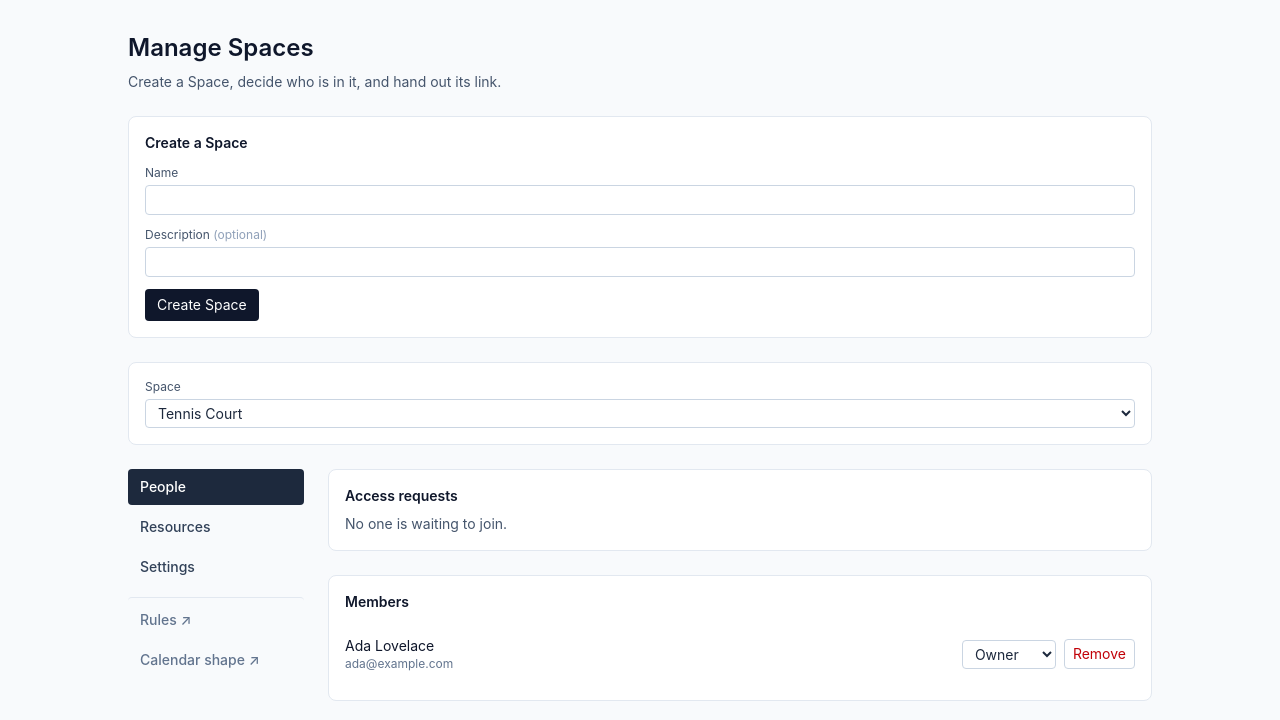
Test case: AdminPage › shows only the Resources panel once Resources is selected
Expected: the element with test id "requests-panel" is shown, [328,469,1152,551]
Click the button with test id "admin-nav-resources" at (216, 527), box [128,509,304,545]
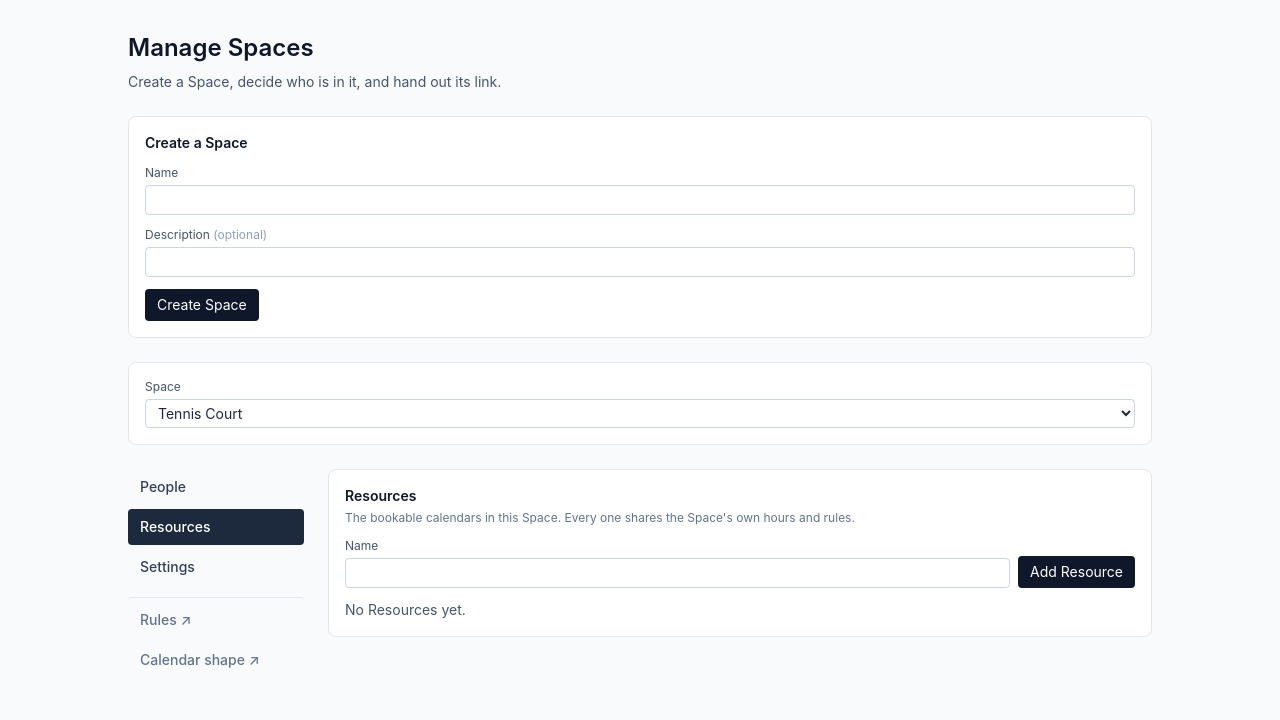
Expected: the element with test id "resources-panel" is shown, [328,469,1152,637]
Expected: the element with test id "requests-panel" is gone
Expected: the element with test id "members-panel" is gone
